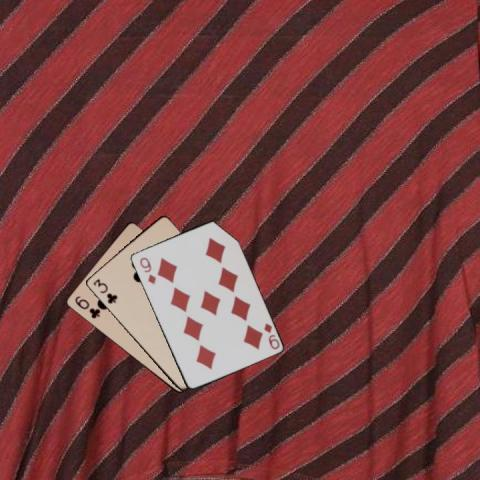3c: (90, 276, 119, 305)
6c: (72, 293, 102, 320)
9d: (260, 320, 281, 351), (137, 254, 157, 285)
